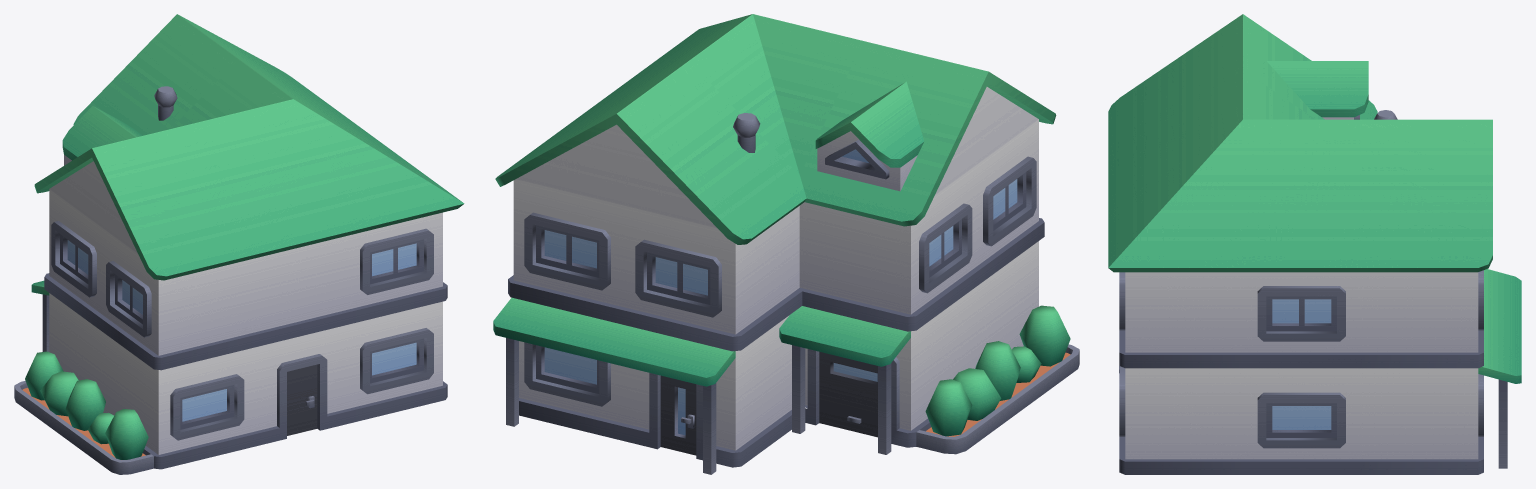
The model's file is s_building-type-f.glb.
3 renders of one model, left to right at view 1: azimuth 30°, elevation 25°; view 2: azimuth 150°, elevation 25°; view 3: azimuth 270°, elevation 25°, orthographic. The views are drawn at different scales.
Visible parts, largest first — view 1: building-type-f; view 2: building-type-f; view 3: building-type-f.
Boxes of the visible parts, x1=… form: building-type-f: x1=14, y1=14, x2=464, y2=474; building-type-f: x1=493, y1=14, x2=1079, y2=474; building-type-f: x1=1108, y1=14, x2=1521, y2=474.
Size of the model in its own units: 1.43 by 1.14 by 1.41.
1 material, 1 textured.
